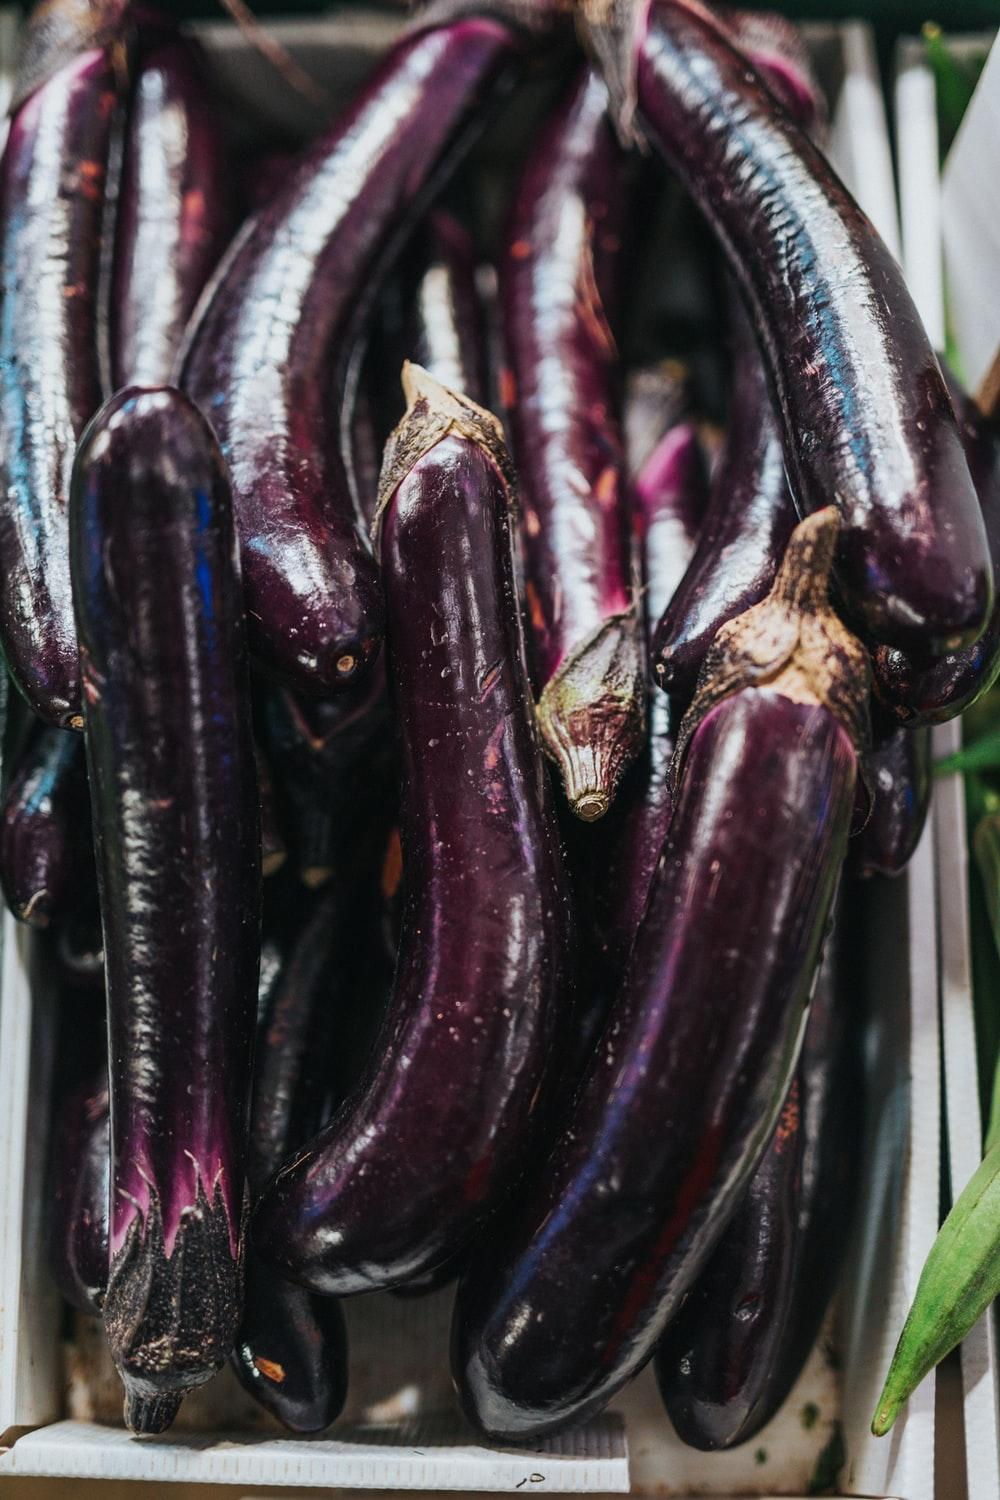eggplant: (525, 507, 868, 1429), (252, 395, 570, 1295), (610, 0, 990, 655), (174, 17, 522, 693), (71, 388, 260, 1431)
